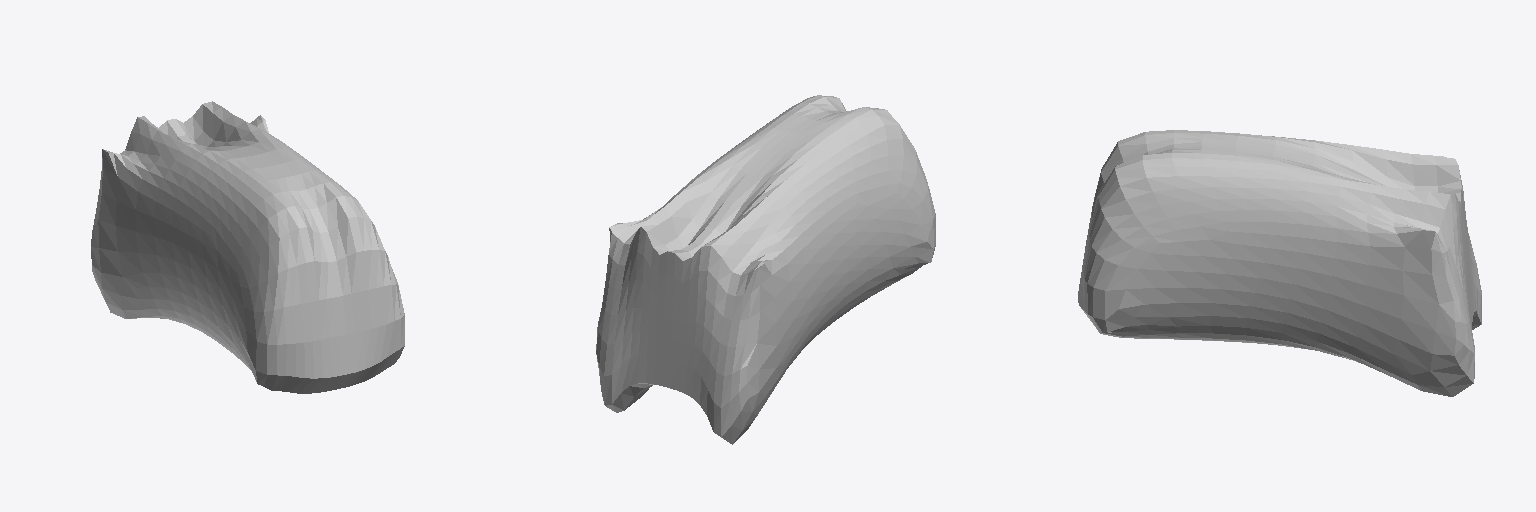
File: rearlargetoe23obj.obj
3 renders of one model, left to right at view 1: azimuth 30°, elevation 25°; view 2: azimuth 150°, elevation 25°; view 3: azimuth 270°, elevation 25°, orthographic.
Visible parts, largest first — view 1: Cube.165_Cube.167; view 2: Cube.165_Cube.167; view 3: Cube.165_Cube.167.
Boxes of the visible parts, x1=… form: Cube.165_Cube.167: x1=91, y1=101, x2=404, y2=393; Cube.165_Cube.167: x1=596, y1=95, x2=935, y2=444; Cube.165_Cube.167: x1=1078, y1=130, x2=1481, y2=396.
Size of the model in its own units: 0.0259 by 0.0324 by 0.0541.